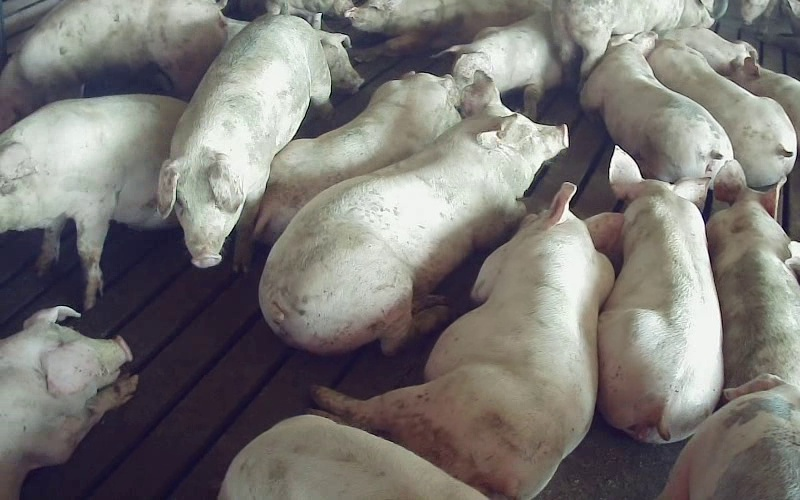pig: (158, 14, 330, 270), (0, 94, 185, 309), (598, 147, 723, 441), (254, 73, 460, 244), (0, 306, 136, 499), (218, 415, 487, 499), (580, 33, 732, 181), (648, 39, 796, 188), (707, 161, 799, 386), (660, 375, 799, 499), (551, 0, 713, 78), (446, 12, 561, 119), (345, 0, 549, 58)
